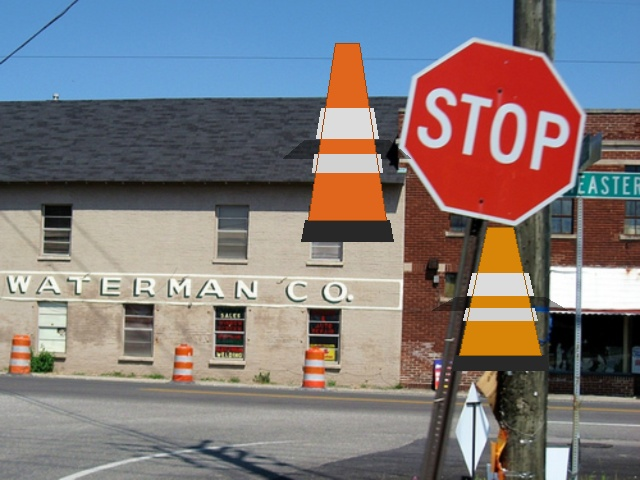traffic-cone: (301, 43, 393, 241), (451, 227, 549, 370)
